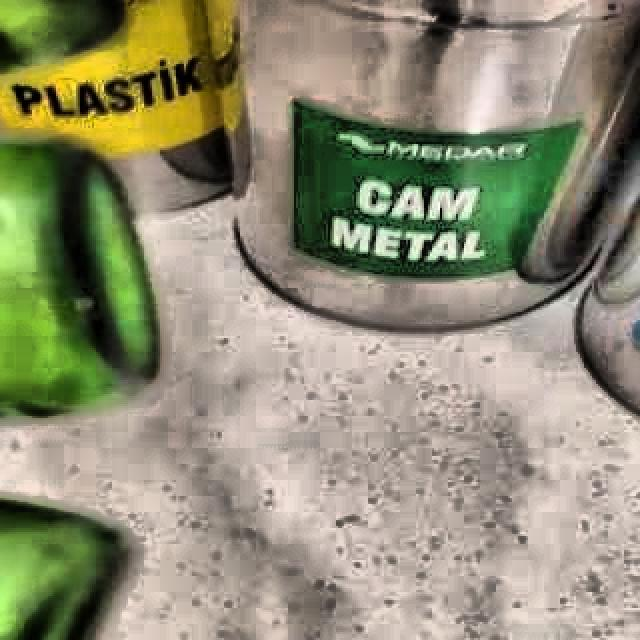glass: (0, 139, 160, 418)
